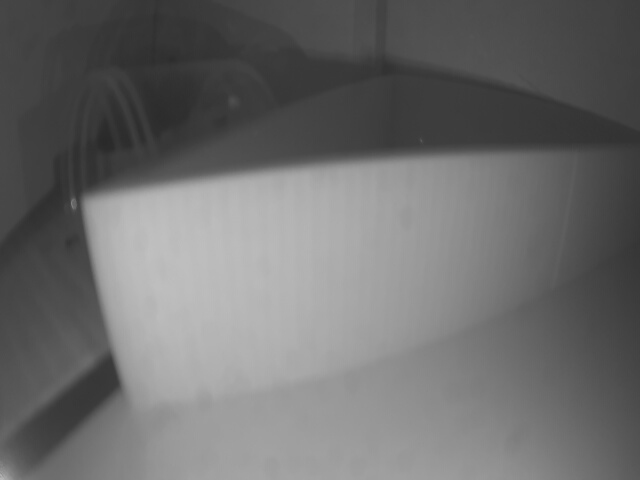Point: (107, 147, 635, 417)
